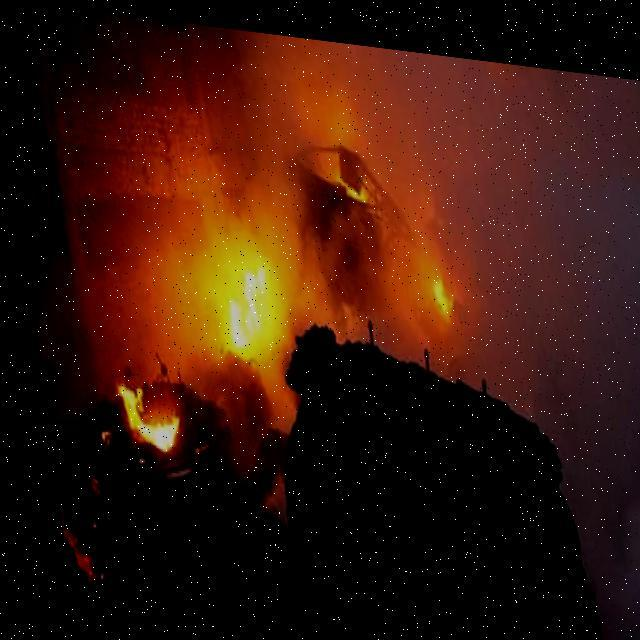Fire: (204, 224, 274, 352), (112, 371, 176, 452)
